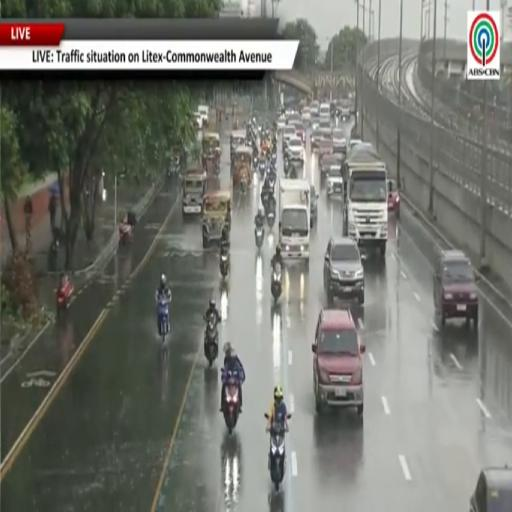car: (312, 309, 365, 420), (433, 249, 478, 328), (324, 237, 364, 305), (470, 466, 511, 511), (319, 154, 342, 175), (327, 170, 343, 198), (287, 136, 304, 161), (388, 180, 399, 218), (310, 185, 319, 227), (283, 124, 296, 151), (333, 128, 346, 153), (310, 129, 323, 150), (197, 105, 209, 127), (295, 123, 305, 143), (286, 112, 301, 124), (349, 138, 362, 150), (301, 107, 311, 122), (310, 101, 319, 117), (319, 118, 330, 131), (194, 112, 202, 129), (310, 117, 320, 130), (277, 117, 285, 132)
jeepney: (202, 191, 230, 248), (182, 169, 206, 214), (232, 147, 253, 185), (202, 133, 220, 174), (230, 130, 245, 159), (203, 175, 220, 197)
motorcycle: (268, 424, 285, 491), (222, 371, 239, 435), (204, 314, 218, 367), (56, 280, 73, 315), (158, 299, 169, 344), (271, 263, 282, 300), (119, 222, 133, 245), (219, 251, 229, 278), (255, 226, 264, 249), (267, 171, 276, 189), (267, 210, 275, 229), (258, 160, 266, 178), (289, 165, 297, 179), (240, 179, 247, 195), (271, 153, 276, 167), (254, 154, 258, 167)
truck: (342, 144, 387, 255), (279, 179, 311, 261)
